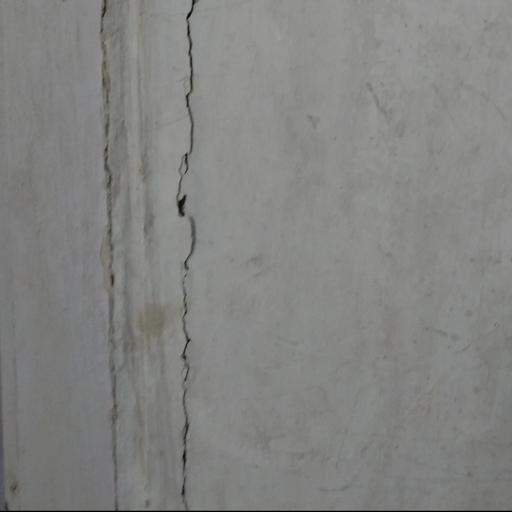minor_crack: (83, 0, 221, 512)
